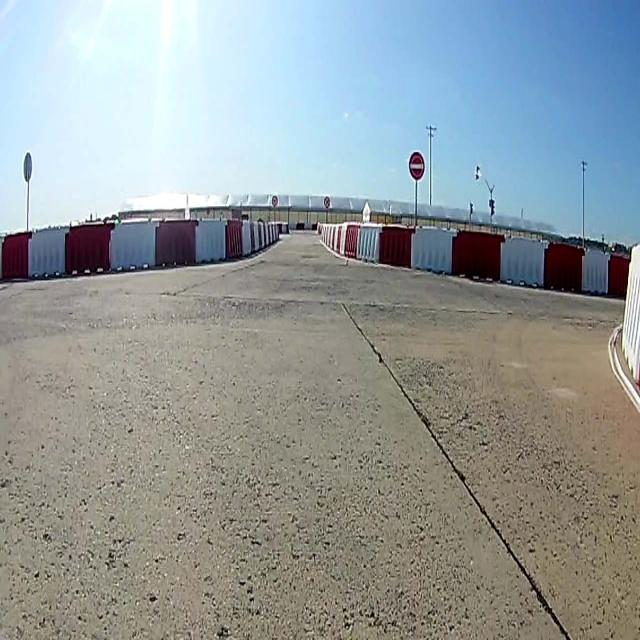girisyok: (408, 151, 426, 180)
